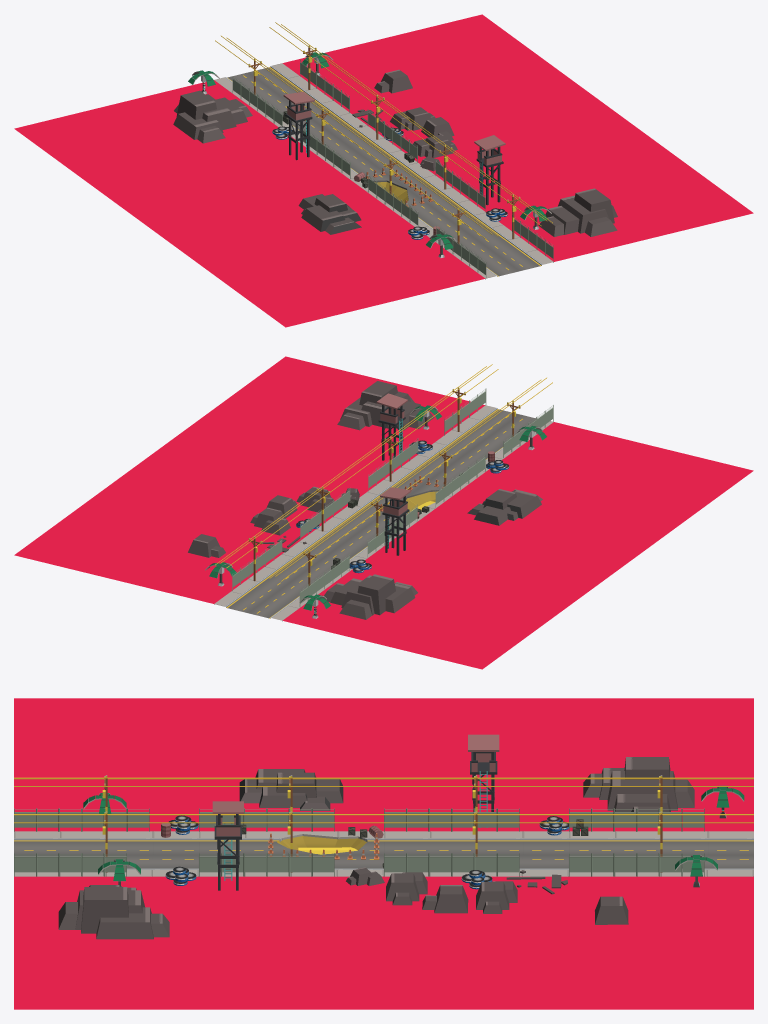
Rendered from CR_Military_v01.fbx.
3 views of the same model, one above another, from view 1: azimuth 30°, elevation 25°; view 2: azimuth 150°, elevation 25°; view 3: azimuth 270°, elevation 25° (orthographic). The views are drawn at different scales.
Parts seen in each view (by area): view 1: CR_map03, CR_map02, CR_map01, CR_map04; view 2: CR_map03, CR_map04, CR_map02, CR_map01; view 3: CR_map03, CR_map04, CR_map01, CR_map02.
Part boxes in pixels (<box>): CR_map03: <box>82,64,617,227</box>; CR_map02: <box>150,114,685,277</box>; CR_map01: <box>218,163,753,327</box>; CR_map04: <box>14,14,549,178</box>; CR_map03: <box>82,456,617,619</box>; CR_map04: <box>14,505,549,669</box>; CR_map02: <box>150,393,685,569</box>; CR_map01: <box>218,356,753,520</box>; CR_map03: <box>382,698,568,1009</box>; CR_map04: <box>569,698,753,1009</box>; CR_map01: <box>14,698,198,1009</box>; CR_map02: <box>199,698,384,1009</box>.
Bounding box in the file's own units: 15923 × 2166 × 16000.
